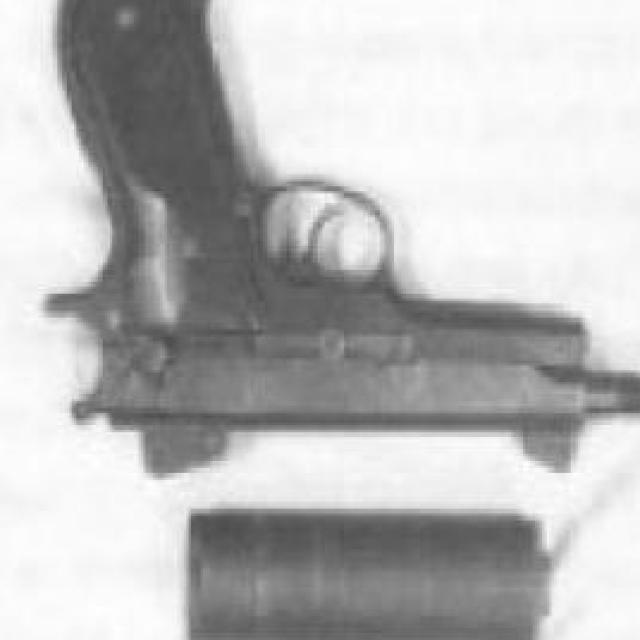pistol: (36, 0, 640, 490)
